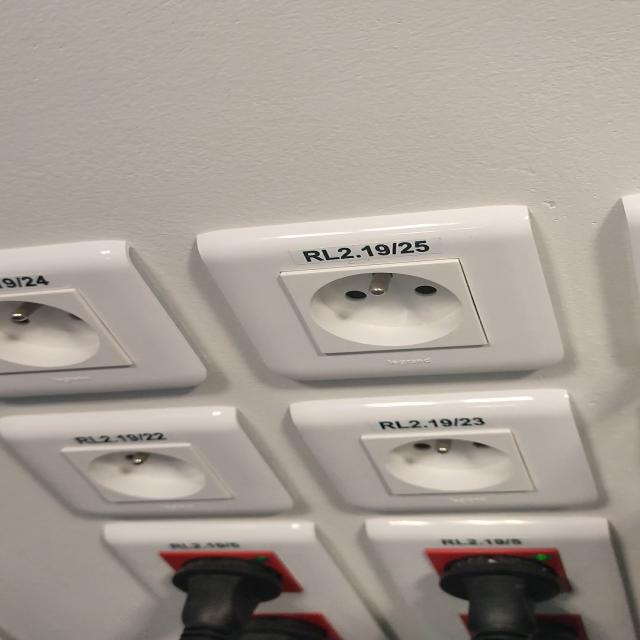house plug: (279, 258, 489, 354), (363, 428, 536, 495), (0, 290, 135, 373), (67, 442, 233, 505)
